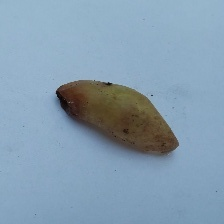grapes: (45, 51, 217, 200)
